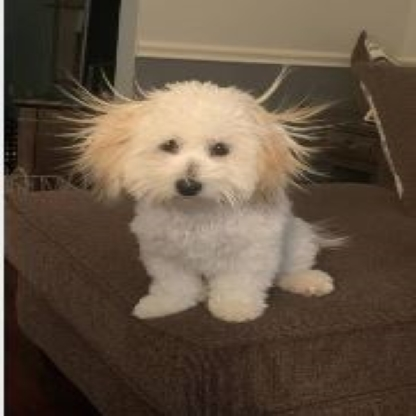maltese: (60, 59, 347, 320)
